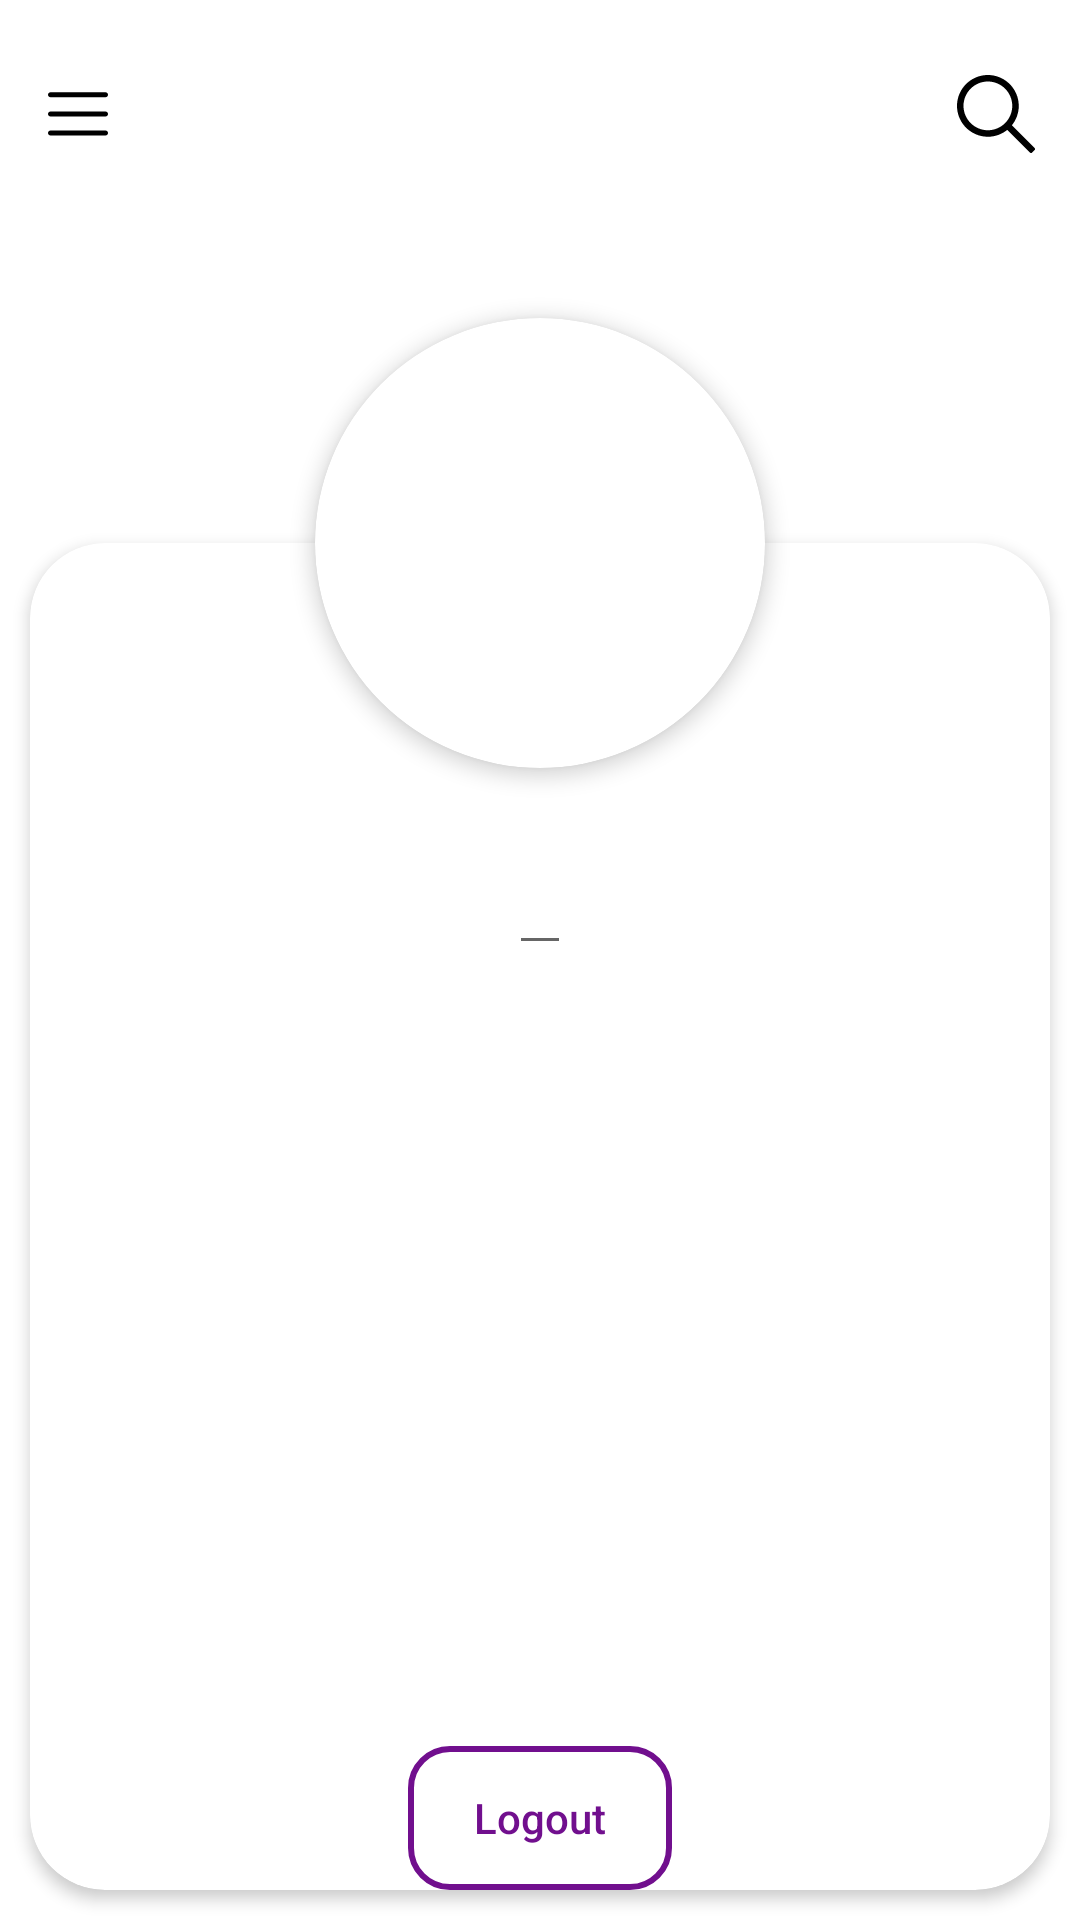

Screen size 1080px×1920px. Icon name, then its center in pixels as [x,y]:
open menu: [78,114]
search: [996,114]
